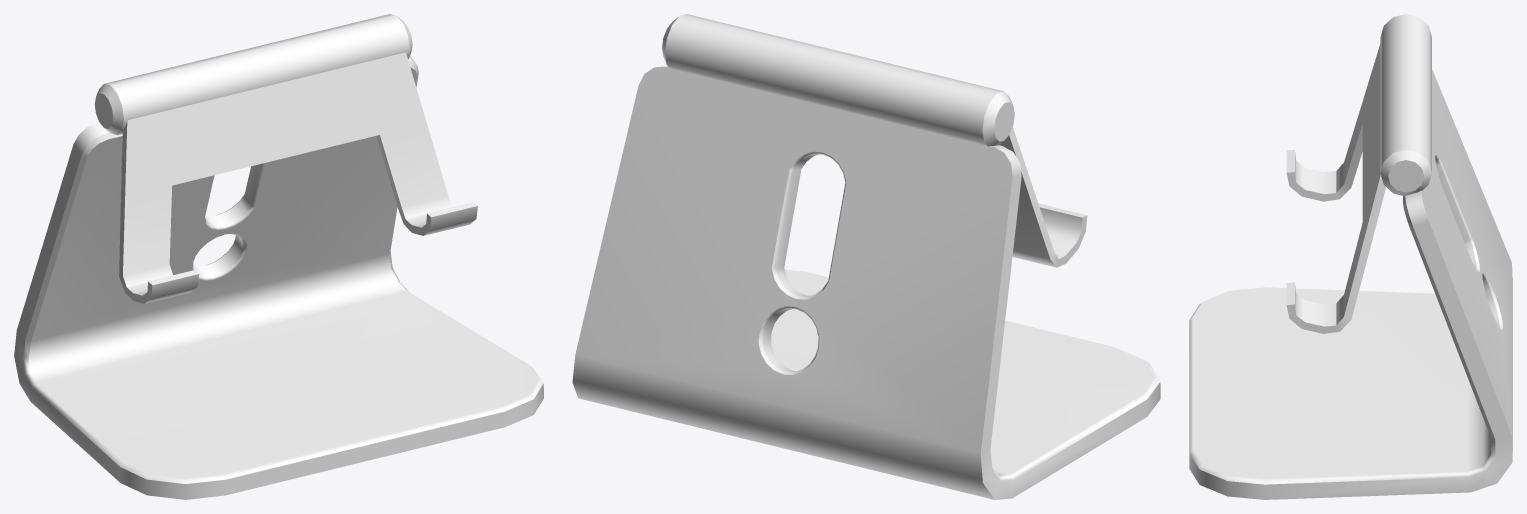
Rendered from ipad stand 1.fbx.
3 renders of one model, left to right at view 1: azimuth 30°, elevation 25°; view 2: azimuth 150°, elevation 25°; view 3: azimuth 270°, elevation 25°, orthographic. The views are drawn at different scales.
Visible parts, largest first — view 1: ipad_stand; view 2: ipad_stand; view 3: ipad_stand.
Boxes of the visible parts, box(x1,y1,x2,y2) form: ipad_stand: box(14, 14, 543, 499); ipad_stand: box(572, 14, 1160, 499); ipad_stand: box(1189, 14, 1512, 499).
Size of the model in its own units: 39.42 by 30.14 by 27.59.
